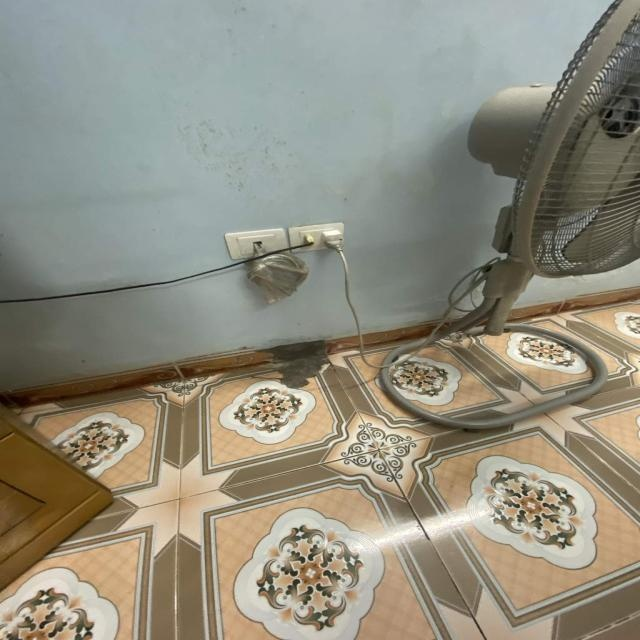outlet: (224, 228, 288, 260), (287, 222, 345, 253)
